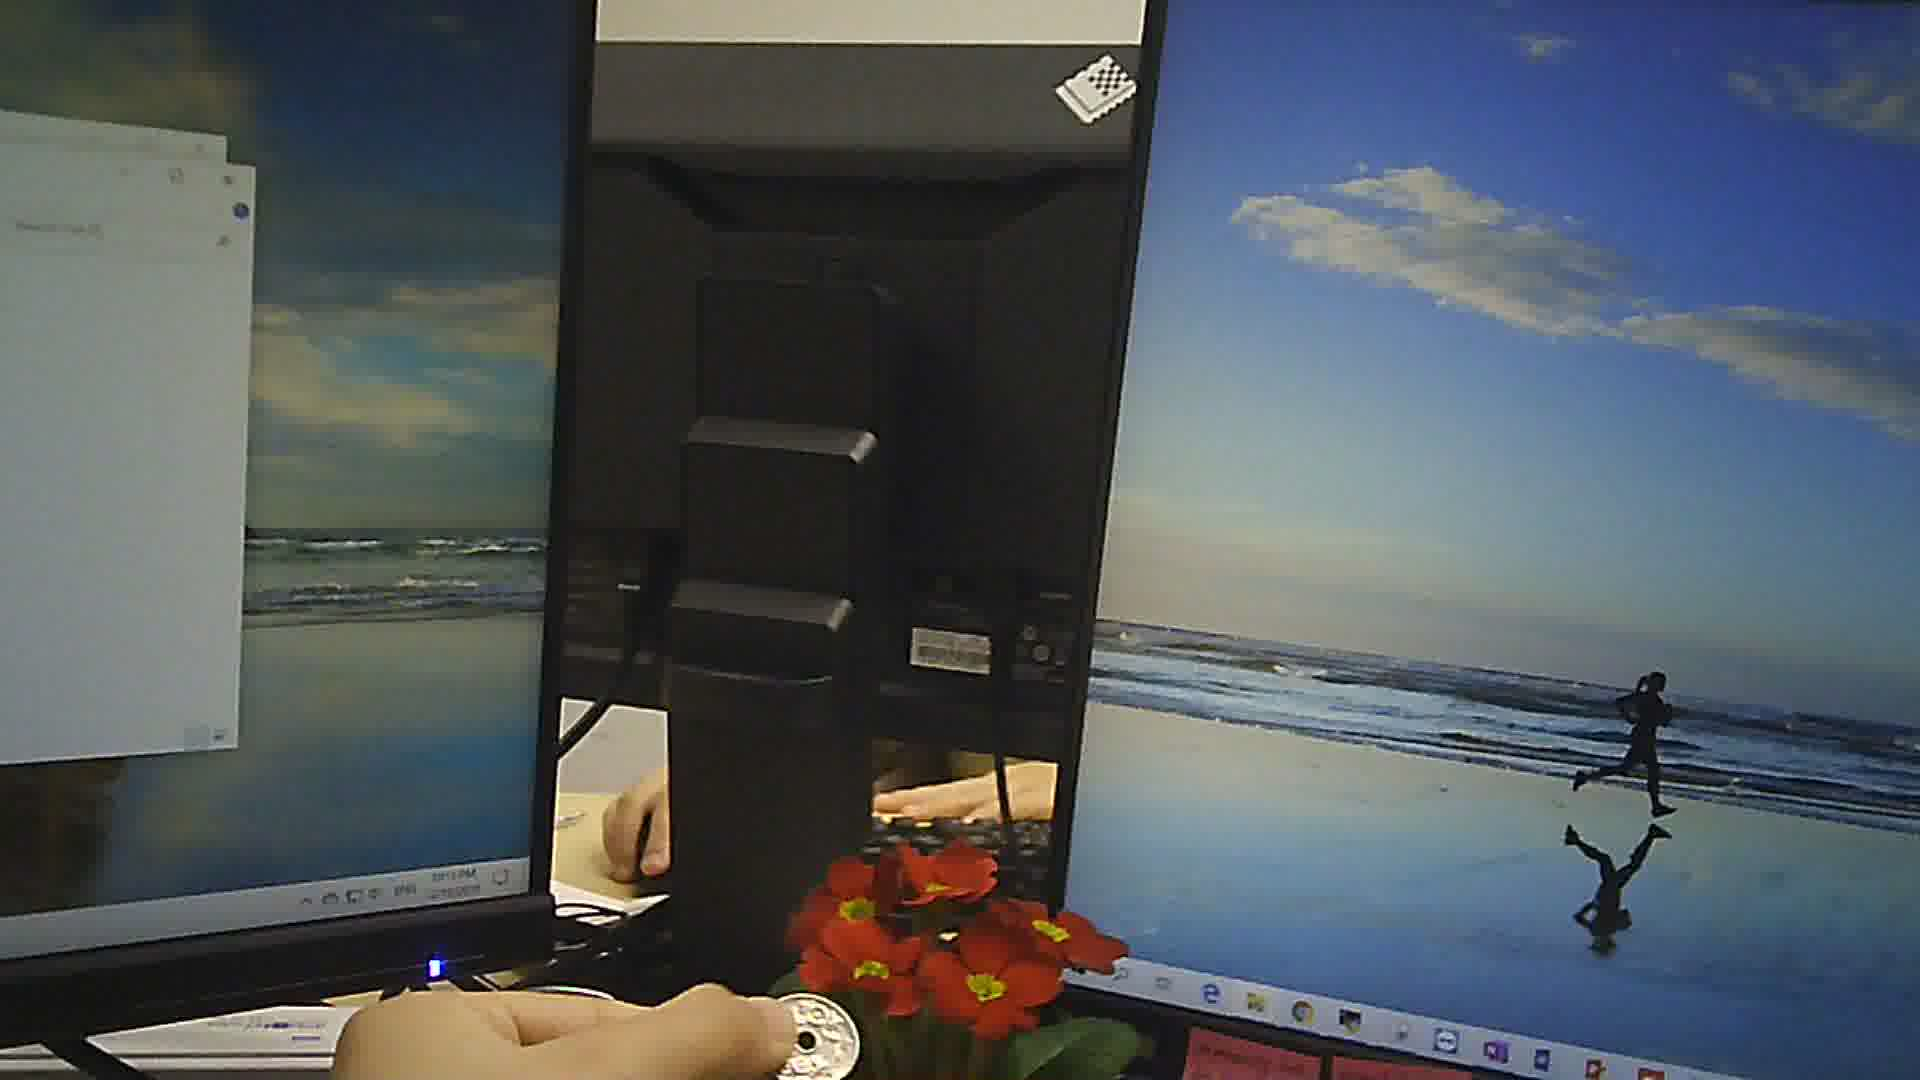50 Yen: (752, 978, 872, 1079)
